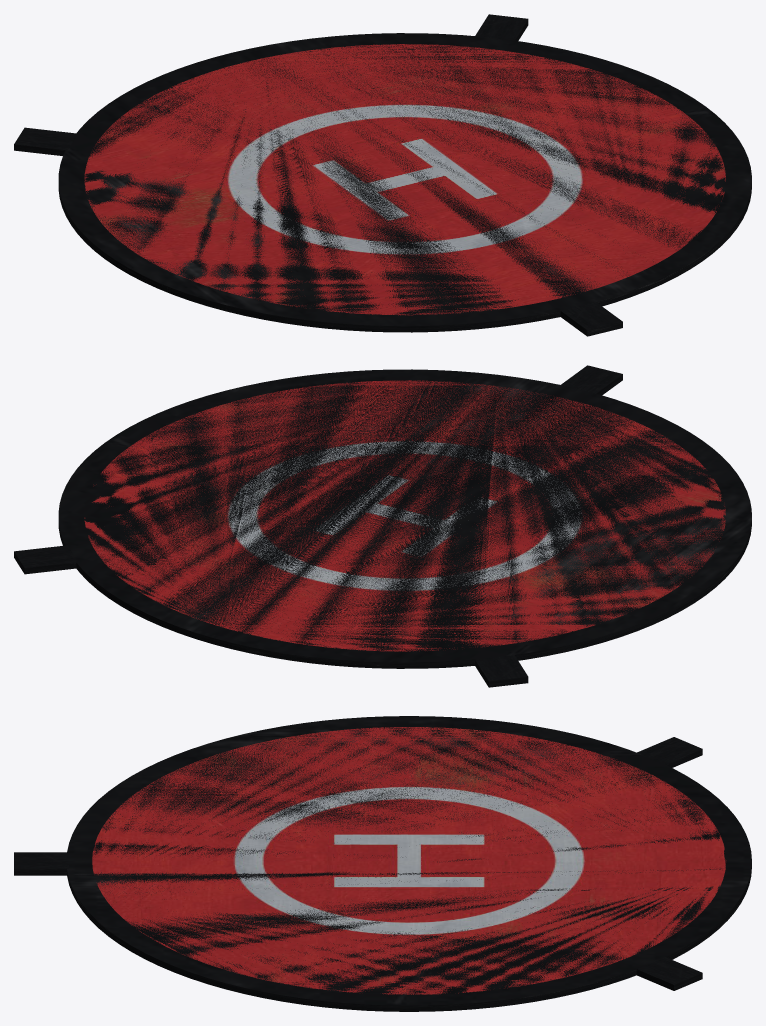
The model's file is DronePad_red.fbx.
3 views of the same model, one above another, from view 1: azimuth 30°, elevation 25°; view 2: azimuth 150°, elevation 25°; view 3: azimuth 270°, elevation 25° (orthographic).
Visible parts, largest first — view 1: DronePad_blue, DronePadSupport, DronePadSupport_1, DronePadSupport_2, DronePadSupport_3; view 2: DronePadSupport, DronePad_blue, DronePadSupport_3, DronePadSupport_2, DronePadSupport_1; view 3: DronePad_blue, DronePadSupport, DronePadSupport_3, DronePadSupport_1, DronePadSupport_2.
Boxes of the visible parts, <box> form: DronePad_blue: <box>84,44,725,315</box>; DronePadSupport: <box>58,33,751,332</box>; DronePadSupport_1: <box>560,301,622,336</box>; DronePadSupport_2: <box>14,127,77,155</box>; DronePadSupport_3: <box>475,14,528,40</box>; DronePadSupport: <box>58,369,751,668</box>; DronePad_blue: <box>84,380,725,651</box>; DronePadSupport_3: <box>14,545,76,574</box>; DronePadSupport_2: <box>475,654,528,687</box>; DronePadSupport_1: <box>561,365,622,395</box>; DronePad_blue: <box>92,727,726,994</box>; DronePadSupport: <box>66,716,751,1011</box>; DronePadSupport_3: <box>636,957,702,990</box>; DronePadSupport_1: <box>14,852,68,875</box>; DronePadSupport_2: <box>635,737,702,767</box>.
Size of the model in its own units: 200 by 2 by 215.
